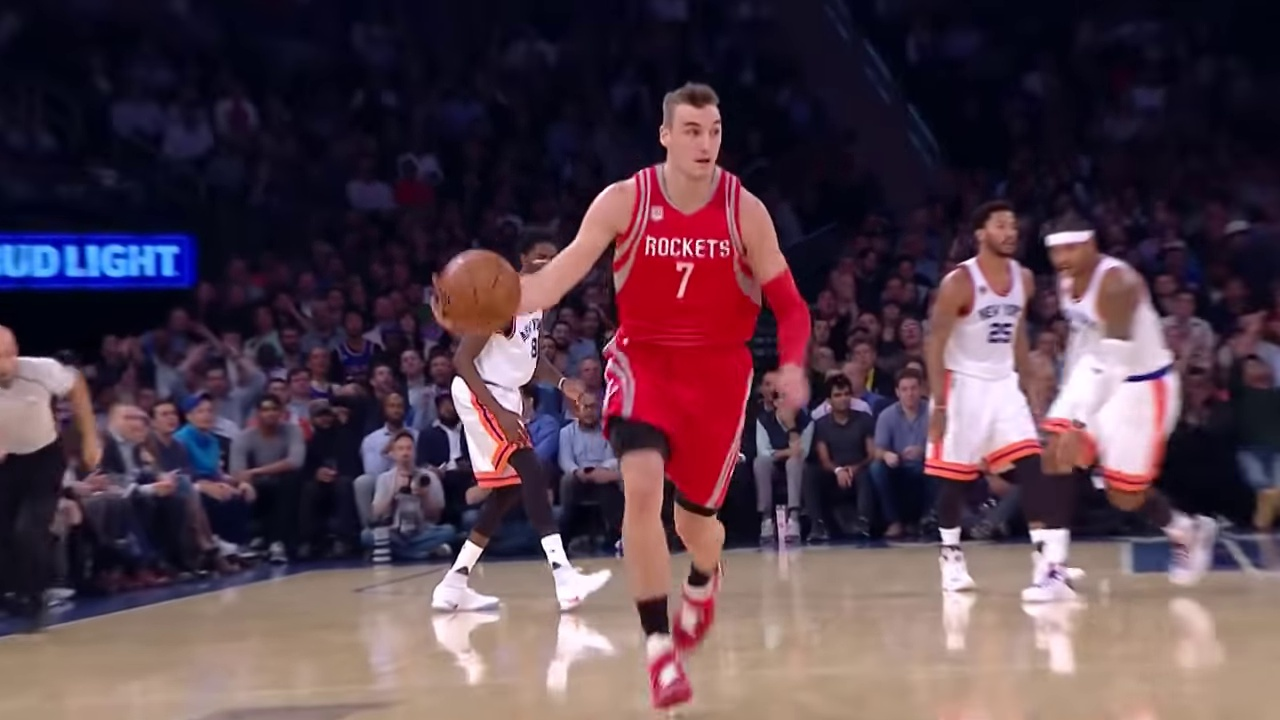bola: (430, 248, 526, 339)
person: (433, 85, 812, 597)
